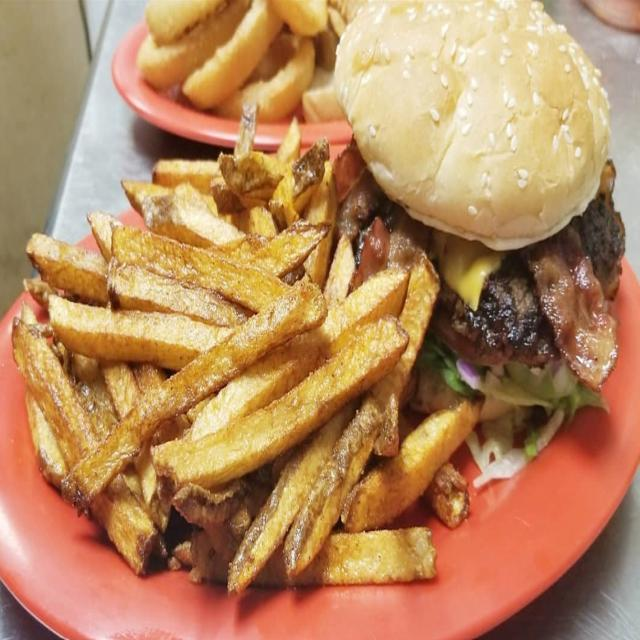Burger: (354, 3, 634, 445)
French Fries: (20, 147, 430, 609)
Onion Rings: (131, 0, 341, 129)
